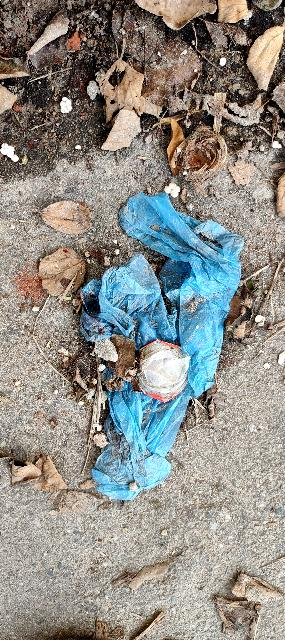polythene: (74, 194, 257, 499)
